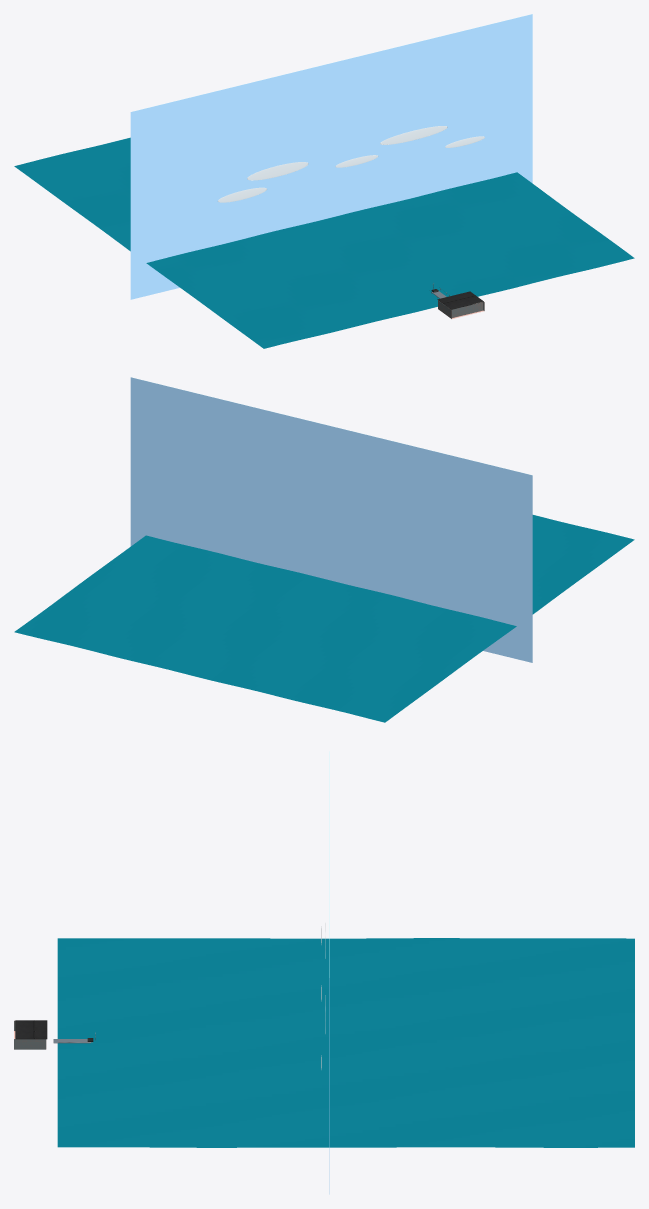
Rendered from ModernBridgeCockpit_VR_v1.2.glb.
3 views of the same model, one above another, from view 1: azimuth 30°, elevation 25°; view 2: azimuth 150°, elevation 25°; view 3: azimuth 270°, elevation 25° (orthographic). The views are drawn at different scales.
Visible parts, largest first — view 1: environment_sky_backdrop, environment_ocean_wave_preview, environment_cloud_soft_puff_1, environment_cloud_soft_puff_3, bridge_ceiling_panel; view 2: environment_sky_backdrop, environment_ocean_wave_preview; view 3: environment_ocean_wave_preview, bridge_ceiling_panel.
Part boxes in pixels (bbox=[...]): environment_sky_backdrop: bbox=[130, 14, 532, 299]; environment_ocean_wave_preview: bbox=[14, 137, 634, 348]; environment_cloud_soft_puff_1: bbox=[247, 162, 308, 180]; environment_cloud_soft_puff_3: bbox=[380, 126, 447, 144]; bridge_ceiling_panel: bbox=[437, 291, 483, 309]; environment_sky_backdrop: bbox=[130, 377, 532, 662]; environment_ocean_wave_preview: bbox=[14, 515, 634, 722]; environment_ocean_wave_preview: bbox=[57, 938, 634, 1147]; bridge_ceiling_panel: bbox=[15, 1020, 47, 1039].
Size of what is drawn, in the model's own units: 130 by 58 by 151.
27 materials, 13 textured.
